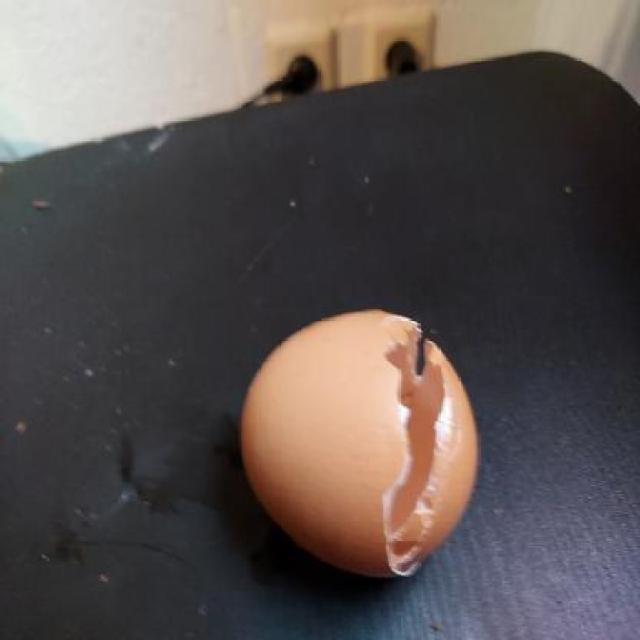biodegradable: (239, 306, 481, 586)
